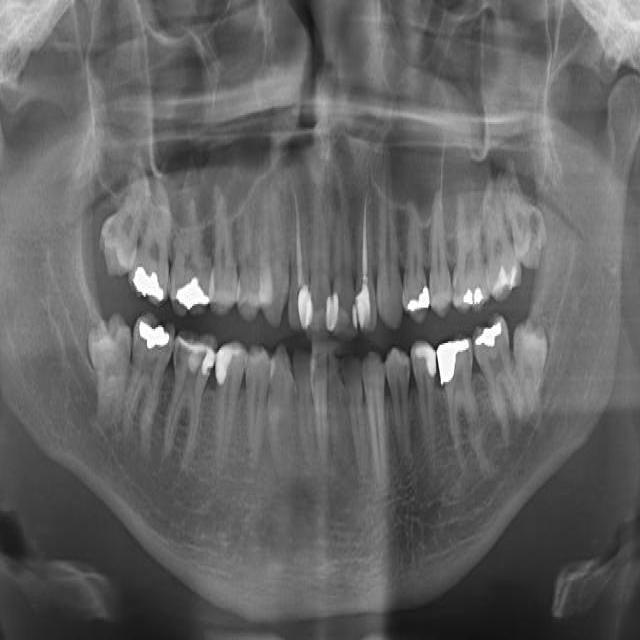dolgu: (129, 240, 169, 314), (135, 304, 176, 363), (436, 324, 474, 386), (174, 339, 218, 389), (171, 268, 211, 318), (217, 326, 248, 389), (409, 331, 441, 386), (399, 282, 433, 324), (473, 312, 508, 352), (456, 278, 490, 318), (349, 280, 375, 331), (492, 262, 524, 303), (288, 283, 316, 329), (325, 267, 343, 334)
kanal-tedavisi: (284, 174, 310, 275), (349, 193, 374, 277)
